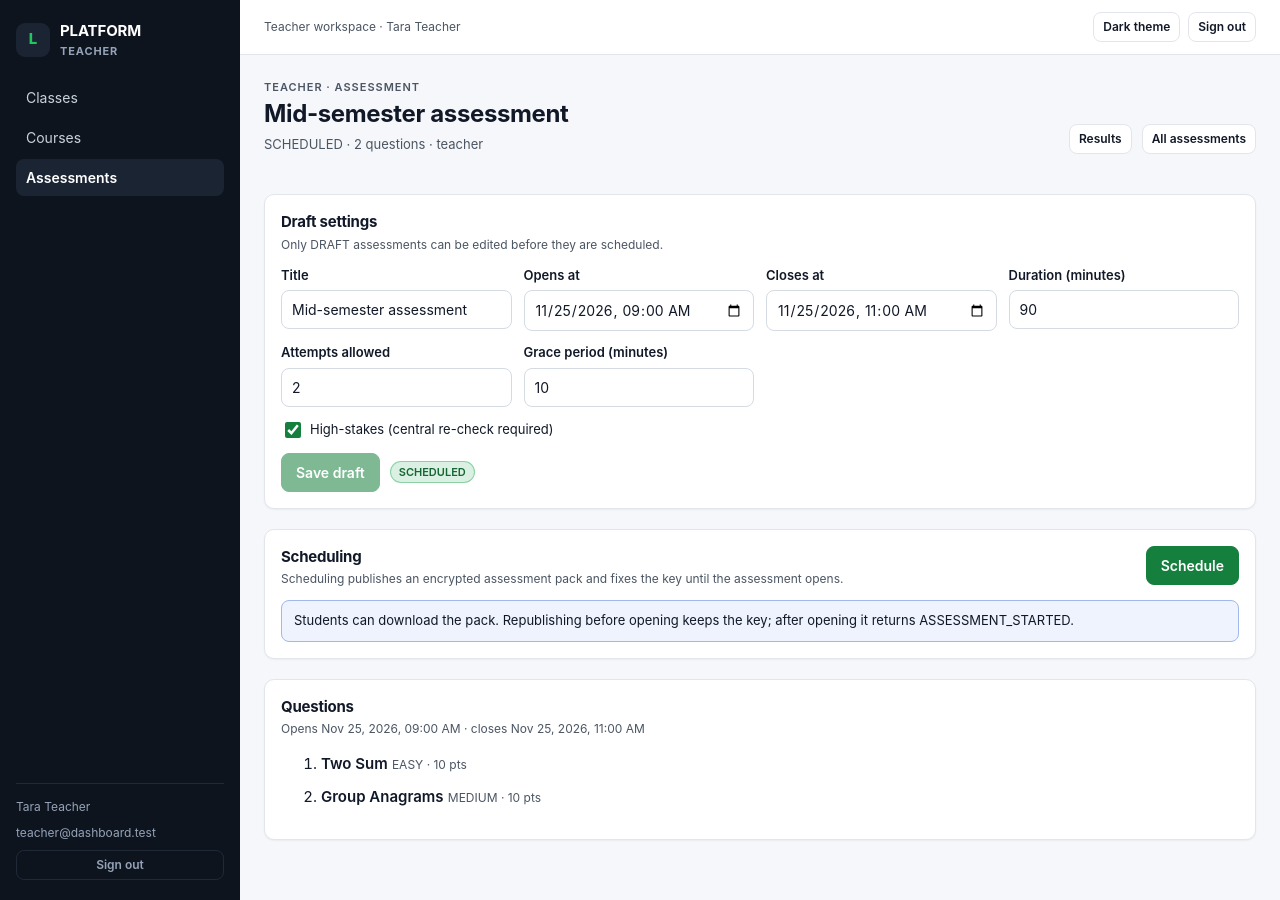
Scenario: phase 10 assessments › schedules a draft from the assessment page and shows the pack version
The width and height of the screenshot is (1280, 900).
Check: the heading "Mid-semester assessment" is shown, box [264,96,569,132]
What coordinates should you click on to do the following:
click the button "Schedule"
I would click on:
 (1192, 565)
Its box is [1146,546,1239,584].
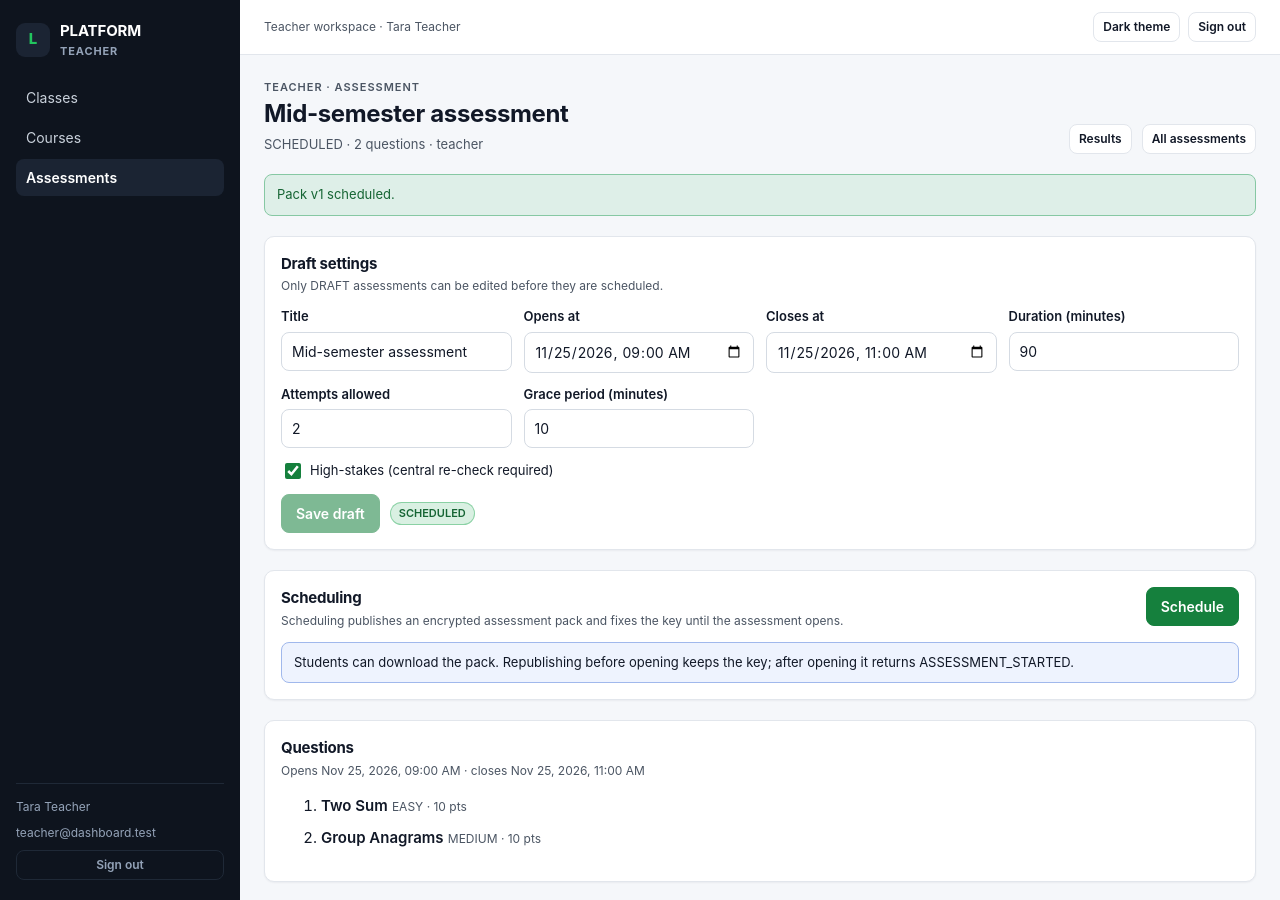
Check: the text "Pack v1 scheduled." is shown, box [264,174,1256,216]
